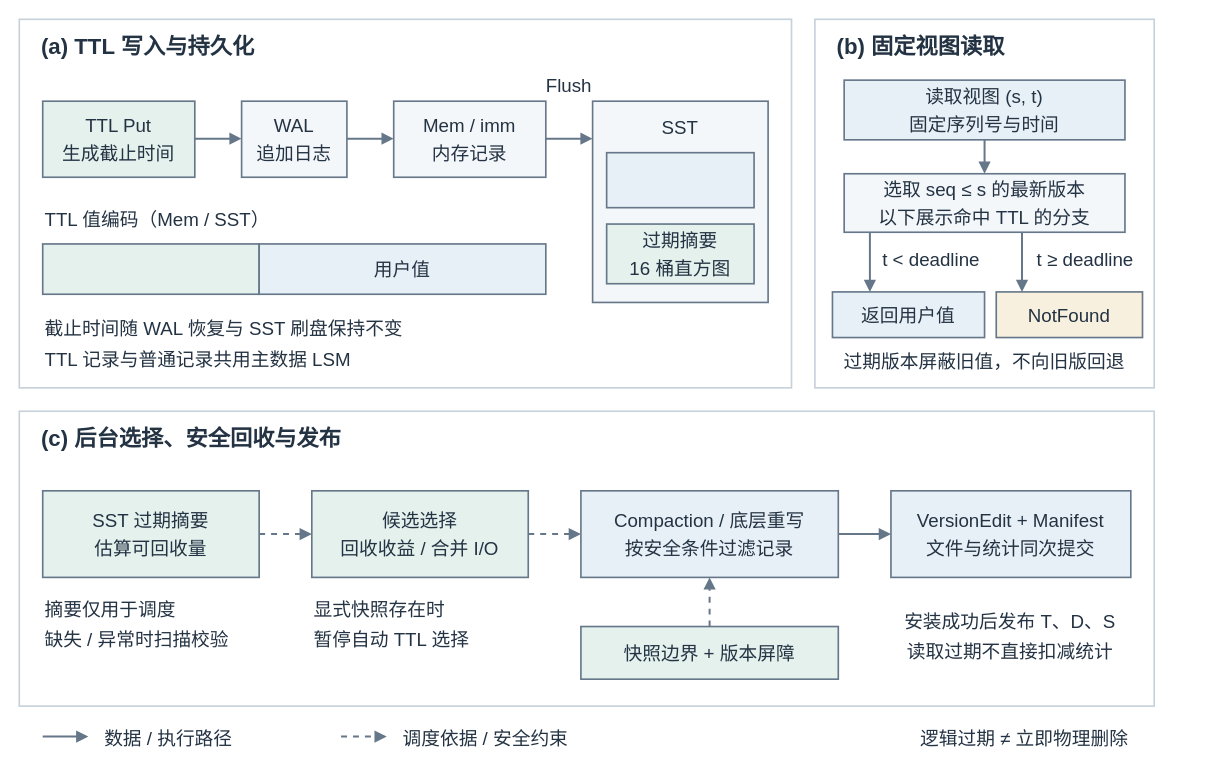
The diagram is 1212 pixels wide and 769 high, and some of its shapes have lost their labels. The centre of each missing label's shape, as x and y in pixels:
deadline · 8 B: pixel 150 268
数据块: pixel 679 179
